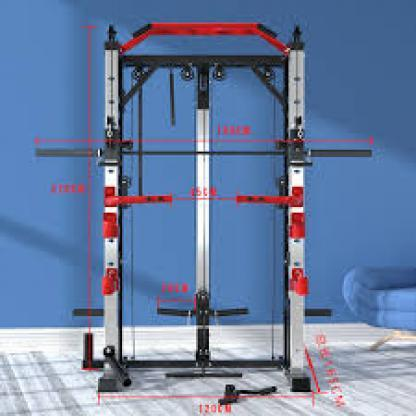smith machine: (37, 19, 333, 393)
